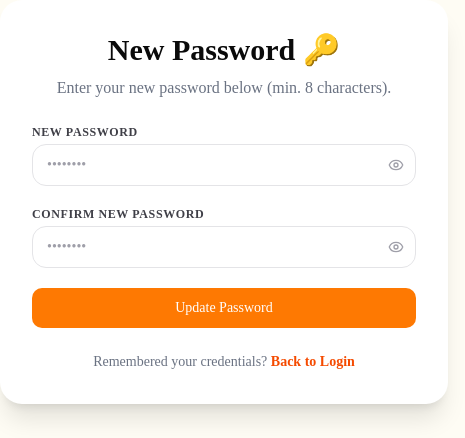
Test case: Password Recovery Forms › ResetPasswordForm › submits password reset and renders success feedback
Step 1. Type "NewSecurePassword123!" into the password field labelled "New Password" → (224, 165), box [32,144,416,186]
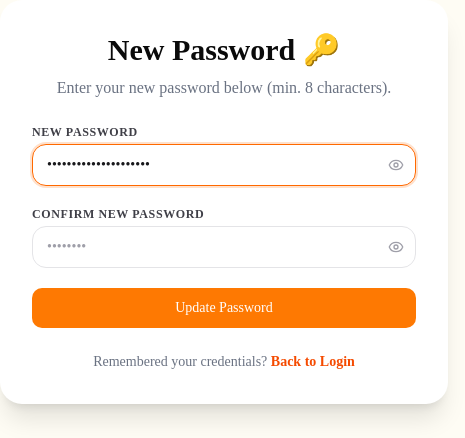
Step 2. Type "NewSecurePassword123!" into the password field labelled "Confirm New Password" → (224, 247), box [32,226,416,268]
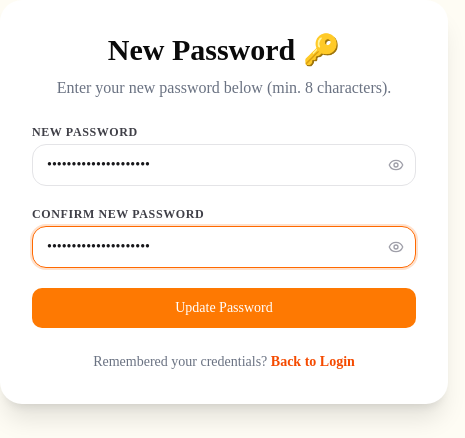
Step 3. Click the button "Update Password" → (224, 308), box [32,288,416,328]
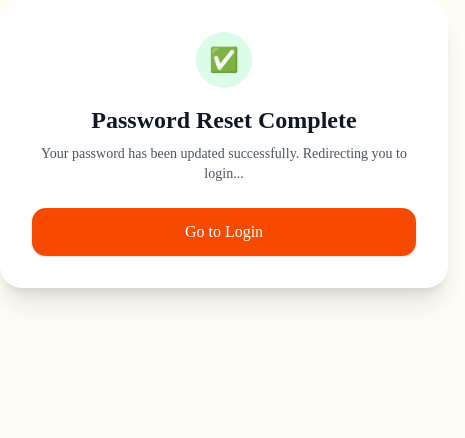
expect the heading "Password Reset Complete" is shown: met, box [91,107,357,133]
